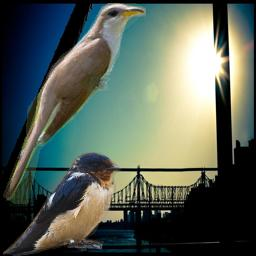Cuckoo: (1, 3, 146, 204)
Swallow: (3, 151, 122, 256)
